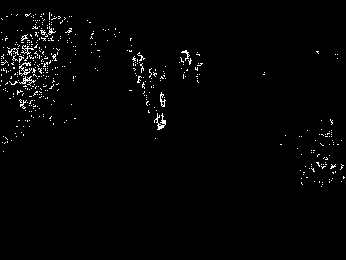person: (142, 67, 168, 130)
